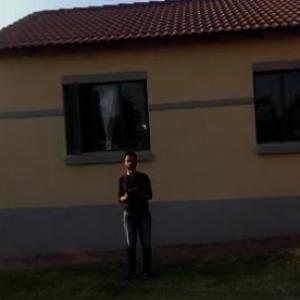follow: (115, 142, 161, 286)
